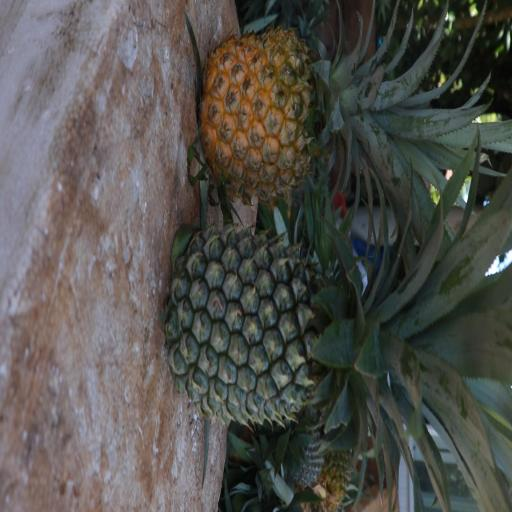Pineapple - v8 v1: (202, 36, 453, 193)
